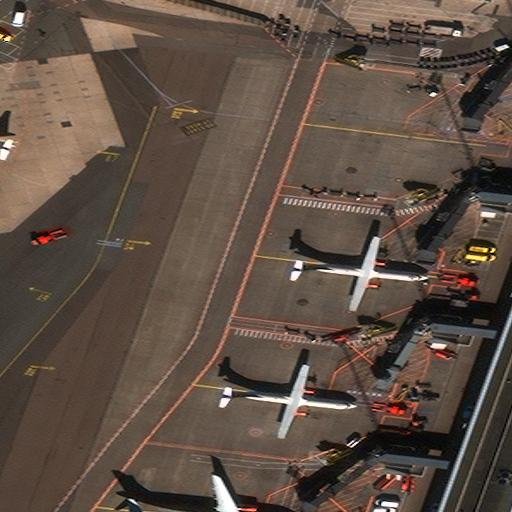Medium Civil Transport: (292, 237, 427, 310), (222, 366, 357, 438), (125, 476, 272, 511)
